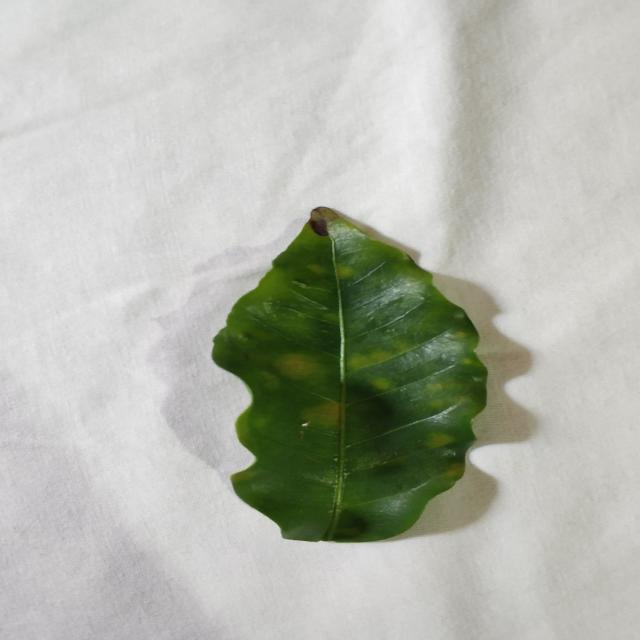Enfermedad-Roya: (210, 207, 492, 546)
